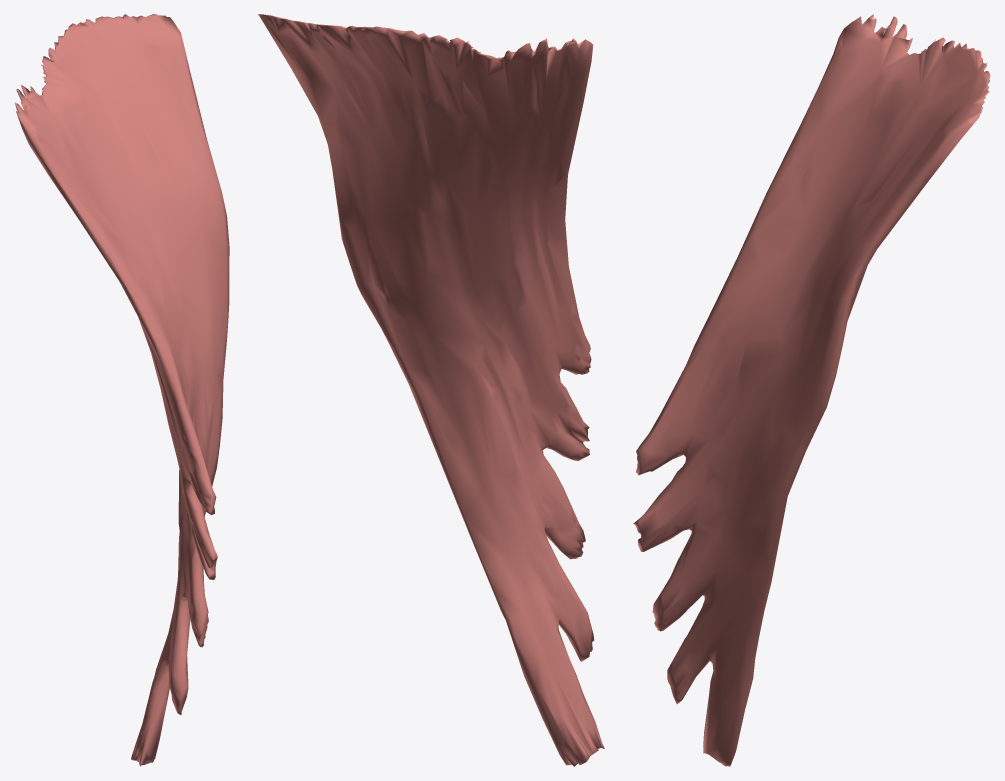
3 renders of one model, left to right at view 1: azimuth 30°, elevation 25°; view 2: azimuth 150°, elevation 25°; view 3: azimuth 270°, elevation 25°, orthographic. The views are drawn at different scales.
Visible parts, largest first — view 1: ZA_1bb56769e28e7a87; view 2: ZA_1bb56769e28e7a87; view 3: ZA_1bb56769e28e7a87.
Part boxes in pixels (x1,y1,x2,y2): ZA_1bb56769e28e7a87: [14, 14, 229, 766]; ZA_1bb56769e28e7a87: [258, 14, 604, 766]; ZA_1bb56769e28e7a87: [633, 14, 990, 766].
Size of the model in its own units: 0.0415 by 0.1241 by 0.0546.
